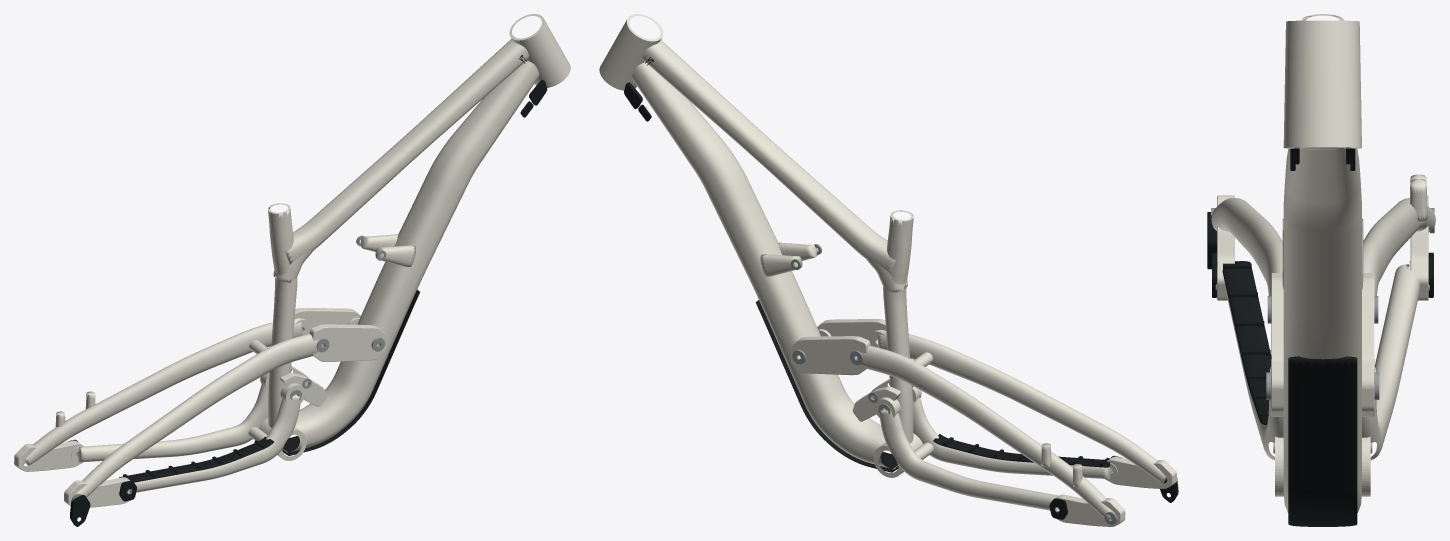
File: yt-tues-mk4-carbon--l.glb
The picture shows the model from 3 angles, left to right: view 1: azimuth 30°, elevation 25°; view 2: azimuth 150°, elevation 25°; view 3: azimuth 270°, elevation 25°; orthographic projection. The views are drawn at different scales.
Visible parts, largest first — view 1: yt-tues-mk4-carbon__paint_0, yt-tues-mk4-carbon__chain_guard, yt-tues-mk4-carbon__bolt_899_675_-1; view 2: yt-tues-mk4-carbon__paint_0, yt-tues-mk4-carbon__chain_guard, yt-tues-mk4-carbon__bolt_899_675_-1; view 3: yt-tues-mk4-carbon__paint_0, yt-tues-mk4-carbon__chain_guard, yt-tues-mk4-carbon__bolt_899_675_-1.
Part boxes in pixels (x1,y1,x2,y2): yt-tues-mk4-carbon__paint_0: (14,14,570,507); yt-tues-mk4-carbon__chain_guard: (67,80,547,526); yt-tues-mk4-carbon__bolt_899_675_-1: (23,235,386,501); yt-tues-mk4-carbon__paint_0: (599,14,1176,526); yt-tues-mk4-carbon__chain_guard: (624,82,1178,519); yt-tues-mk4-carbon__bolt_899_675_-1: (791,244,1117,524); yt-tues-mk4-carbon__paint_0: (1211,14,1435,512); yt-tues-mk4-carbon__chain_guard: (1207,147,1433,526); yt-tues-mk4-carbon__bolt_899_675_-1: (1211,208,1434,399).
Size of the model in its own units: 1.02 by 0.6903 by 0.1982.
5 materials, 2 textured.
